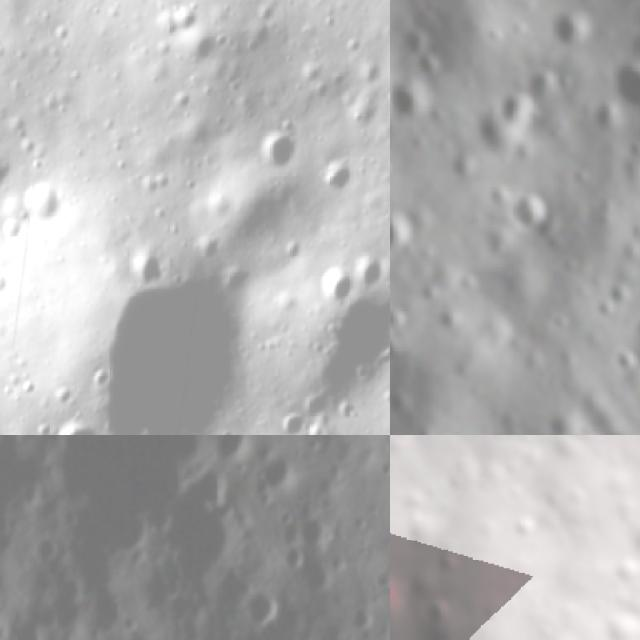crater: (92, 243, 263, 435), (291, 272, 390, 435), (244, 441, 305, 504), (499, 179, 559, 239), (21, 175, 73, 235), (253, 115, 300, 177), (546, 1, 599, 52), (489, 83, 541, 134), (316, 141, 357, 204), (240, 574, 284, 630), (122, 240, 168, 292), (607, 48, 640, 113), (390, 563, 419, 636), (291, 512, 338, 556), (316, 263, 360, 304), (390, 296, 423, 350), (398, 13, 440, 55), (390, 199, 421, 255), (354, 245, 390, 293), (344, 589, 386, 630), (510, 505, 550, 547), (390, 80, 427, 124), (408, 48, 448, 86), (212, 435, 259, 466), (41, 412, 102, 435), (432, 542, 469, 578), (609, 339, 640, 374), (271, 406, 305, 435), (616, 131, 640, 168), (639, 435, 640, 469)
